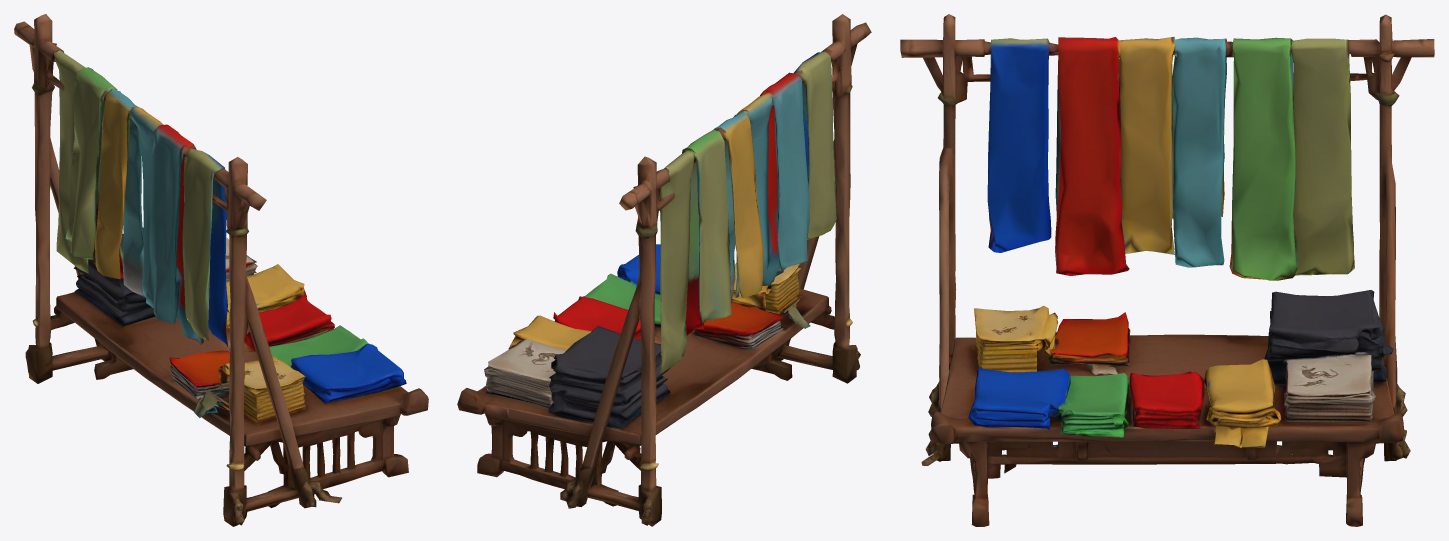
File: stall-silk.glb
The picture shows the model from 3 angles, left to right: view 1: azimuth 30°, elevation 25°; view 2: azimuth 150°, elevation 25°; view 3: azimuth 270°, elevation 25°; orthographic projection. The views are drawn at different scales.
Visible parts, largest first — view 1: tripo_node_78d1b86a-c4f8-48a3-a2b4-da2926a06d63; view 2: tripo_node_78d1b86a-c4f8-48a3-a2b4-da2926a06d63; view 3: tripo_node_78d1b86a-c4f8-48a3-a2b4-da2926a06d63.
Part boxes in pixels (x1,y1,x2,y2): tripo_node_78d1b86a-c4f8-48a3-a2b4-da2926a06d63: (14,14,428,526); tripo_node_78d1b86a-c4f8-48a3-a2b4-da2926a06d63: (457,14,871,526); tripo_node_78d1b86a-c4f8-48a3-a2b4-da2926a06d63: (900,14,1434,526).
Size of the model in its own units: 0.5305 by 0.8545 by 1.
Materials: 1 (1 with a texture image).
